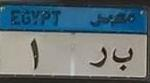1: (29, 37, 41, 68)
baa: (112, 45, 134, 70)
raa: (89, 45, 108, 70)
